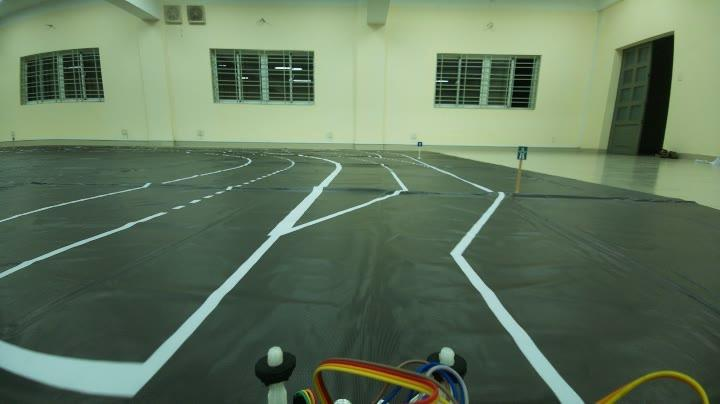highway_entry: (512, 140, 530, 163)
